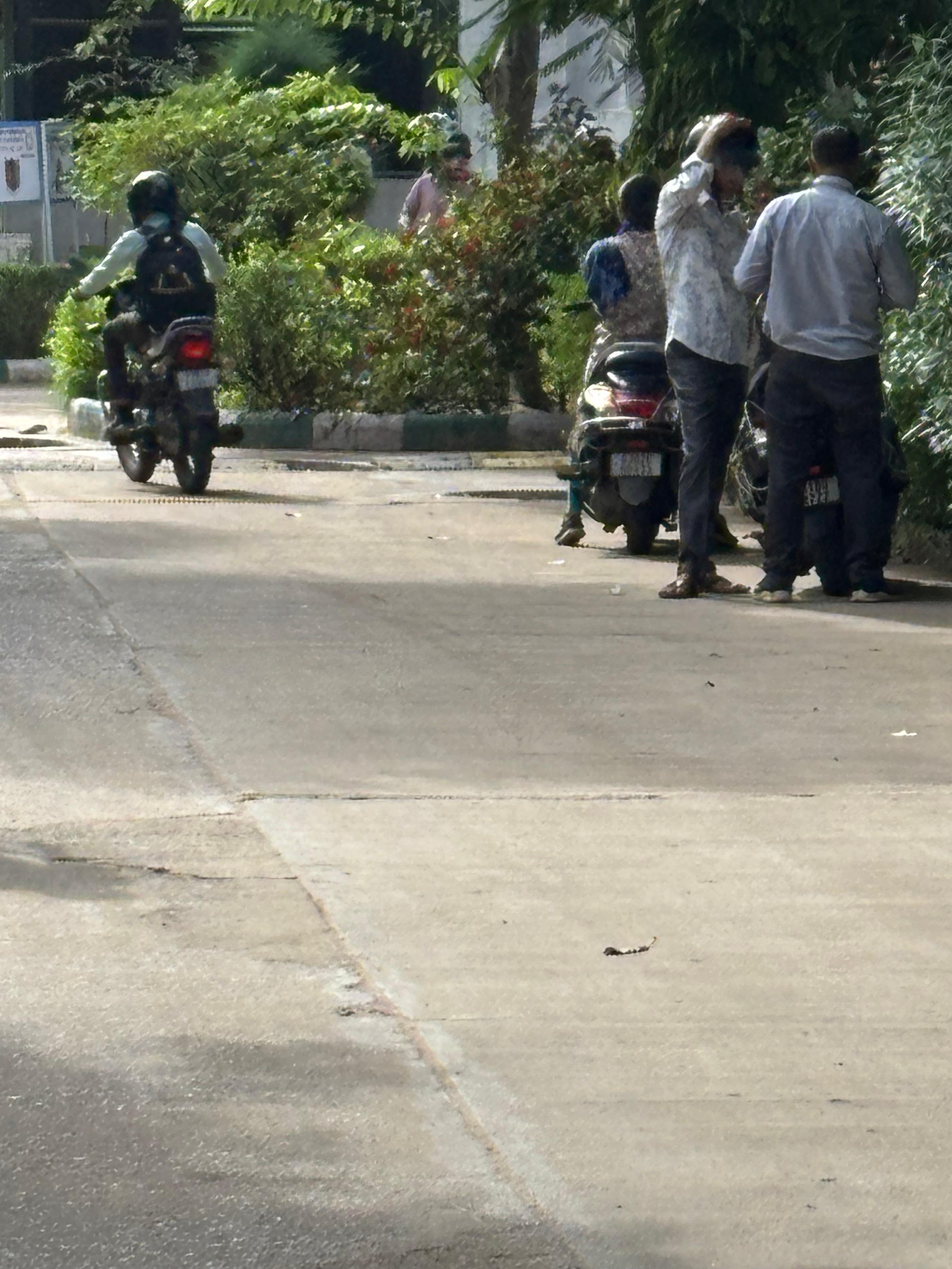BikeWithRider: (524, 160, 767, 589), (65, 132, 268, 520)
Helmet: (111, 157, 197, 237), (604, 160, 676, 234)
